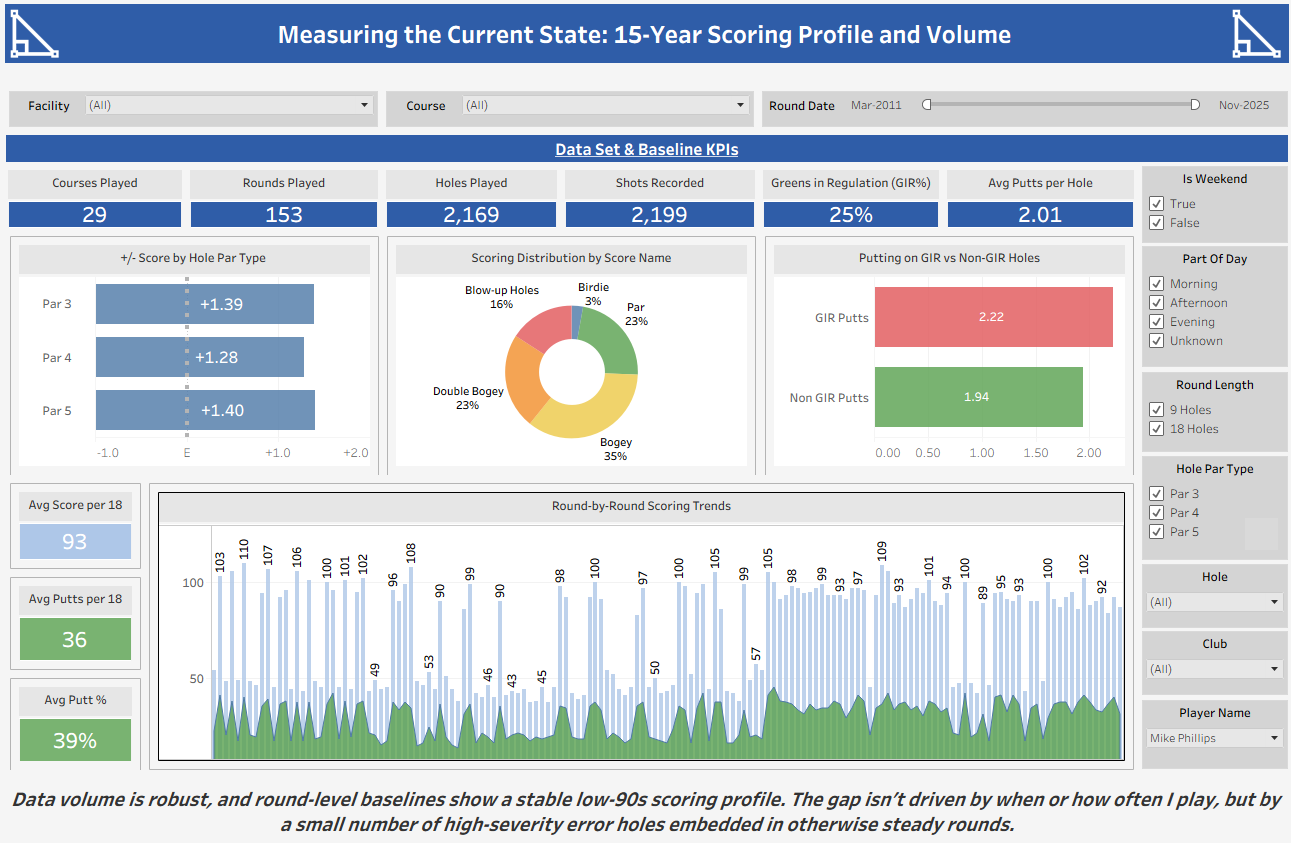

What the dashboard file says about the page in this screenshot:
{"tool":"tableau","page":{"name":"3. MEASURE Performance","canvas":[1300,850],"ordinal":3},"visuals":[{"type":"image","param":"C:/Users/micha/OneDrive/Documents/NewForce/golf-capstone/data/reference/MEASURE.","box":[8,8,60,59]},{"type":"title","box":[68,8,1159,59]},{"type":"image","param":"C:/Users/micha/OneDrive/Documents/NewForce/golf-capstone/data/reference/MEASURE.","box":[1227,8,65,59]},{"type":"blank","box":[5,63,1290,32]},{"type":"filter","title":"Filters Control Panel","param":"[federated.1hzspvt11izh0a1geo4r71k8ylsa].[none:facility:nk]","box":[5,95,380,40]},{"type":"filter","title":"Filters Control Panel","param":"[federated.1hzspvt11izh0a1geo4r71k8ylsa].[none:course:nk]","box":[385,95,376,40]},{"type":"filter","title":"Filters Control Panel","param":"[federated.1hzspvt11izh0a1geo4r71k8ylsa].[none:round_dt:qk]","box":[761,95,534,40]},{"type":"text","box":[5,135,1290,34.6]},{"type":"worksheet","title":"Courses Played","mark":"GanttBar","box":[5,169.6,184,66.2]},{"type":"worksheet","title":"Rounds Played","mark":"GanttBar","box":[189,169.6,196,66.2]},{"type":"worksheet","title":"Holes Played","mark":"GanttBar","box":[385,169.6,179,66.2]},{"type":"worksheet","title":"Shots Recorded","mark":"GanttBar","box":[564,169.6,198,66.2]},{"type":"worksheet","title":"Greens in Regulation (GIR%)","mark":"GanttBar","box":[762,169.6,184.1,66.2]},{"type":"worksheet","title":"Avg Putts per Hole","mark":"GanttBar","box":[946.1,169.6,195,66.2]},{"type":"filter","title":"Filters Control Panel","param":"[federated.1hzspvt11izh0a1geo4r71k8ylsa].[none:is_weekend:nk]","box":[1141.1,169.6,153.9,80.6]},{"type":"worksheet","title":"+/- Score by Hole Par Type ","mark":"GanttBar","rows":["hole_par_bucket"],"cols":["Calculation_1010495171964088324"],"box":[18,244.8,359.3,229.6]},{"type":"worksheet","title":"Scoring Distribution by Score Name","mark":"Pie","rows":["Calculation_425027220110712837","Calculation_425027220110712837"],"box":[395.3,244.8,359.4,229.6]},{"type":"worksheet","title":"Putting on GIR vs Non-GIR Holes","mark":"Bar","rows":["hole_gir"],"cols":["hole_putts"],"box":[772.7,244.8,359.4,229.6]},{"type":"filter","title":"Filters Control Panel","param":"[federated.1hzspvt11izh0a1geo4r71k8ylsa].[none:part_of_day:nk]","box":[1141.1,250.2,153.9,125.4]},{"type":"filter","title":"Filters Control Panel","param":"[federated.1hzspvt11izh0a1geo4r71k8ylsa].[none:round_holes_scored:ok]","box":[1141.1,375.6,153.9,84.4]},{"type":"filter","title":"Filters Control Panel","param":"[federated.1hzspvt11izh0a1geo4r71k8ylsa].[none:hole_par_bucket:nk]","box":[1141.1,460,153.9,107.8]},{"type":"worksheet","title":"Avg Score per 18","mark":"GanttBar","box":[18,492.4,121,75.7]},{"type":"worksheet","title":"Round-by-Round Scoring Trends","mark":"Bar","rows":["round_score","round_putts"],"cols":["round_dt"],"box":[157,492.4,975.1,276.9]},{"type":"worksheet","title":"Filters Control Panel","mark":"Automatic","box":[1248,522,33,32]},{"type":"filter","title":"Filters Control Panel","param":"[federated.1hzspvt11izh0a1geo4r71k8ylsa].[none:hole_number:ok]","box":[1141.1,567.7,153.9,67.7]},{"type":"worksheet","title":"Avg Putts per 18","mark":"GanttBar","box":[18,586.2,121,82.6]},{"type":"filter","title":"Filters Control Panel","param":"[federated.1hzspvt11izh0a1geo4r71k8ylsa].[none:shot_club (clubs.csv):nk]","box":[1141.1,635.4,153.9,68.5]},{"type":"worksheet","title":"Avg Putt %","mark":"GanttBar","box":[18,686.8,121,82.6]},{"type":"filter","title":"Filters Control Panel","param":"[federated.1hzspvt11izh0a1geo4r71k8ylsa].[none:player_name:nk]","box":[1141.1,703.9,153.9,81.1]},{"type":"text","box":[5,785,1290,60]}]}

Visuals, with their boxes in screenshot pixels (x1, y1, x2, y2), scaled from the page's 1300x850 canvas onto the 1291x843 screenshot:
image: (8,8,68,66)
title: (68,8,1219,66)
image: (1219,8,1283,66)
blank: (5,62,1286,94)
"Filters Control Panel" filter: (5,94,382,134)
"Filters Control Panel" filter: (382,94,756,134)
"Filters Control Panel" filter: (756,94,1286,134)
text: (5,134,1286,168)
"Courses Played" worksheet (GanttBar marks): (5,168,188,234)
"Rounds Played" worksheet (GanttBar marks): (188,168,382,234)
"Holes Played" worksheet (GanttBar marks): (382,168,560,234)
"Shots Recorded" worksheet (GanttBar marks): (560,168,757,234)
"Greens in Regulation (GIR%)" worksheet (GanttBar marks): (757,168,940,234)
"Avg Putts per Hole" worksheet (GanttBar marks): (940,168,1133,234)
"Filters Control Panel" filter: (1133,168,1286,248)
"+/- Score by Hole Par Type " worksheet (GanttBar marks): (18,243,375,470)
"Scoring Distribution by Score Name" worksheet (Pie marks): (393,243,749,470)
"Putting on GIR vs Non-GIR Holes" worksheet (Bar marks): (767,243,1124,470)
"Filters Control Panel" filter: (1133,248,1286,373)
"Filters Control Panel" filter: (1133,373,1286,456)
"Filters Control Panel" filter: (1133,456,1286,563)
"Avg Score per 18" worksheet (GanttBar marks): (18,488,138,563)
"Round-by-Round Scoring Trends" worksheet (Bar marks): (156,488,1124,763)
"Filters Control Panel" worksheet: (1239,518,1272,549)
"Filters Control Panel" filter: (1133,563,1286,630)
"Avg Putts per 18" worksheet (GanttBar marks): (18,581,138,663)
"Filters Control Panel" filter: (1133,630,1286,698)
"Avg Putt %" worksheet (GanttBar marks): (18,681,138,763)
"Filters Control Panel" filter: (1133,698,1286,779)
text: (5,779,1286,838)
